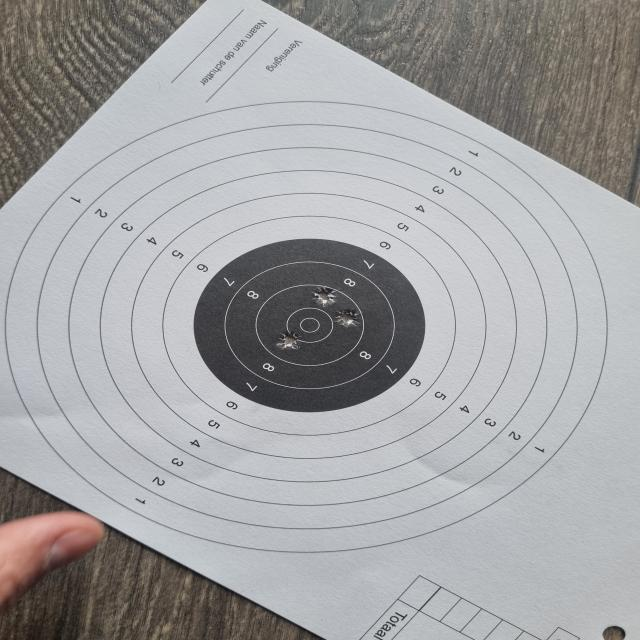10: (276, 331, 302, 350)
9: (311, 287, 339, 307), (334, 309, 360, 328)
Target: (5, 100, 609, 554)
black_contour: (193, 238, 426, 413)
